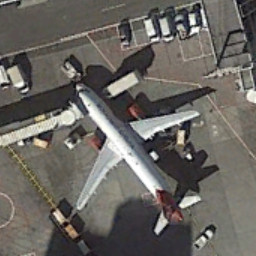Airplane: (58, 76, 209, 240)
